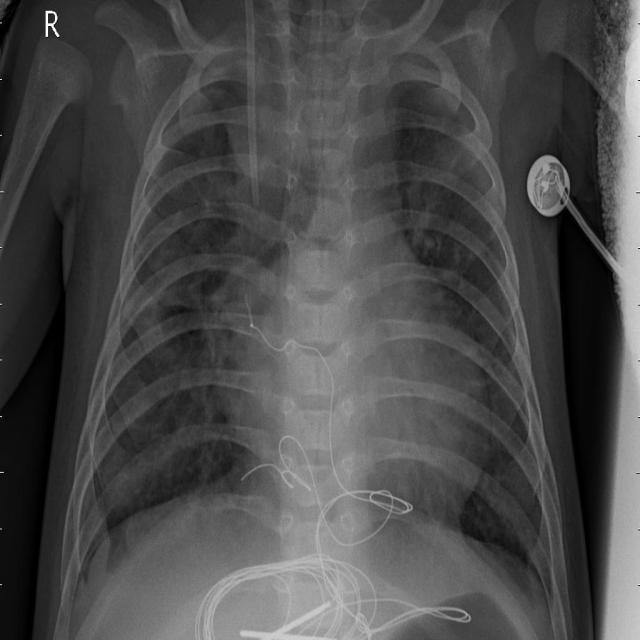low-pneumonia: (194, 33, 278, 178)
